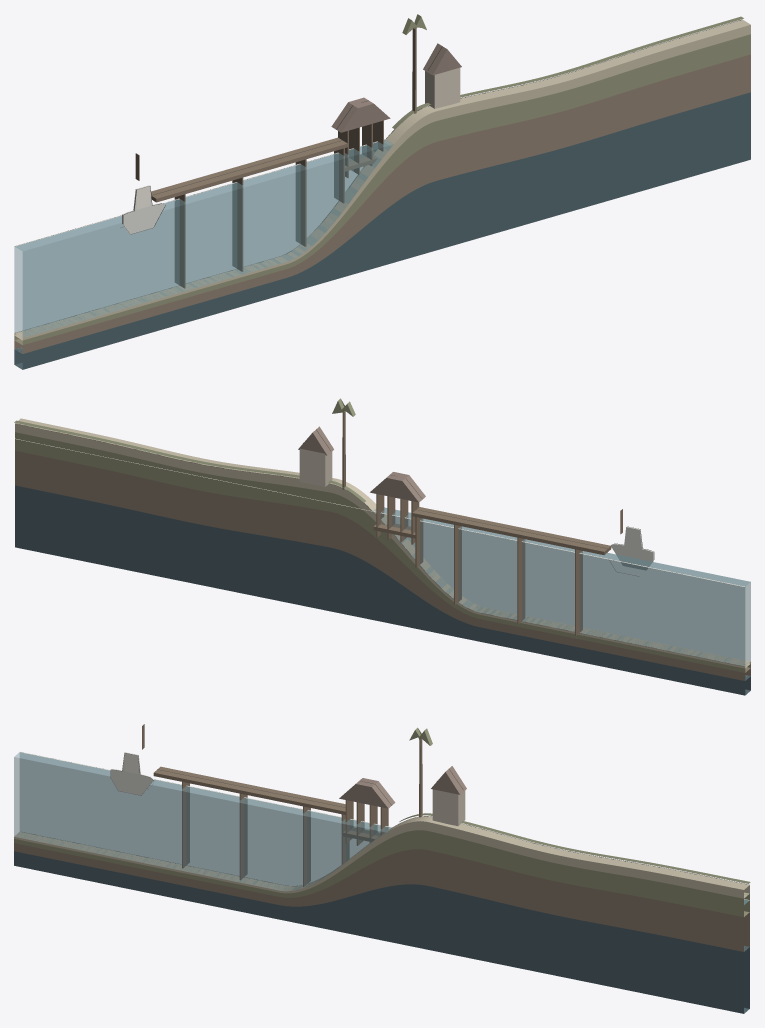
File: section.glb
The picture shows the model from 3 angles, top to bottom: view 1: azimuth 30°, elevation 25°; view 2: azimuth 150°, elevation 25°; view 3: azimuth 330°, elevation 25°; orthographic projection. The views are drawn at different scales.
Visible parts, largest first — view 1: SECTION_Bed, SECTION_Water, SECTION_Strata_A, SECTION_Land, SECTION_Soil, SECTION_JettyDeck, SECTION_House_0, SECTION_Topsoil, SECTION_PavilionRoof, SECTION_JettyPile_45, SECTION_JettyPile_15, SECTION_Boat (+2 smaller); view 2: SECTION_Bed, SECTION_Water, SECTION_Strata_A, SECTION_Soil, SECTION_Land, SECTION_JettyDeck, SECTION_House_0, SECTION_Boat, SECTION_Topsoil, SECTION_PavilionRoof, SECTION_JettyPile_45, SECTION_Waterline (+4 smaller); view 3: SECTION_Bed, SECTION_Water, SECTION_Strata_A, SECTION_Soil, SECTION_Land, SECTION_JettyDeck, SECTION_House_0, SECTION_PavilionRoof, SECTION_Topsoil, SECTION_Boat, SECTION_JettyPile_45, SECTION_JettyPile_15 (+2 smaller).
Boxes of the visible parts, left/top/right/bottom form: SECTION_Bed: left=14, top=92, right=750, bottom=369; SECTION_Water: left=14, top=65, right=668, bottom=337; SECTION_Strata_A: left=14, top=54, right=750, bottom=353; SECTION_Land: left=14, top=19, right=750, bottom=340; SECTION_Soil: left=14, top=34, right=750, bottom=344; SECTION_JettyDeck: left=151, top=137, right=348, bottom=202; SECTION_House_0: left=425, top=67, right=460, bottom=108; SECTION_Topsoil: left=392, top=16, right=743, bottom=129; SECTION_PavilionRoof: left=331, top=97, right=390, bottom=132; SECTION_JettyPile_45: left=232, top=176, right=243, bottom=271; SECTION_JettyPile_15: left=174, top=193, right=185, bottom=288; SECTION_Boat: left=122, top=185, right=165, bottom=234; SECTION_Bed: left=15, top=485, right=750, bottom=695; SECTION_Water: left=373, top=507, right=750, bottom=666; SECTION_Strata_A: left=15, top=450, right=750, bottom=680; SECTION_Soil: left=15, top=432, right=750, bottom=672; SECTION_Land: left=15, top=418, right=750, bottom=668; SECTION_JettyDeck: left=412, top=507, right=611, bottom=555; SECTION_House_0: left=299, top=448, right=332, bottom=486; SECTION_Boat: left=611, top=527, right=653, bottom=570; SECTION_Topsoil: left=14, top=420, right=365, bottom=502; SECTION_PavilionRoof: left=370, top=472, right=425, bottom=502; SECTION_JettyPile_45: left=517, top=536, right=525, bottom=624; SECTION_Waterline: left=15, top=438, right=744, bottom=586; SECTION_Bed: left=14, top=851, right=749, bottom=1013; SECTION_Water: left=14, top=752, right=749, bottom=904; SECTION_Strata_A: left=14, top=843, right=749, bottom=951; SECTION_Soil: left=14, top=830, right=749, bottom=917; SECTION_Land: left=14, top=816, right=749, bottom=898; SECTION_JettyDeck: left=153, top=766, right=345, bottom=814; SECTION_House_0: left=432, top=789, right=465, bottom=825; SECTION_PavilionRoof: left=339, top=778, right=395, bottom=808; SECTION_Topsoil: left=399, top=813, right=750, bottom=883; SECTION_Boat: left=111, top=752, right=153, bottom=795; SECTION_JettyPile_45: left=239, top=792, right=247, bottom=880; SECTION_JettyPile_15: left=182, top=780, right=189, bottom=868.
Bounding box in the file's own units: 182 × 53.07 × 17.38.
